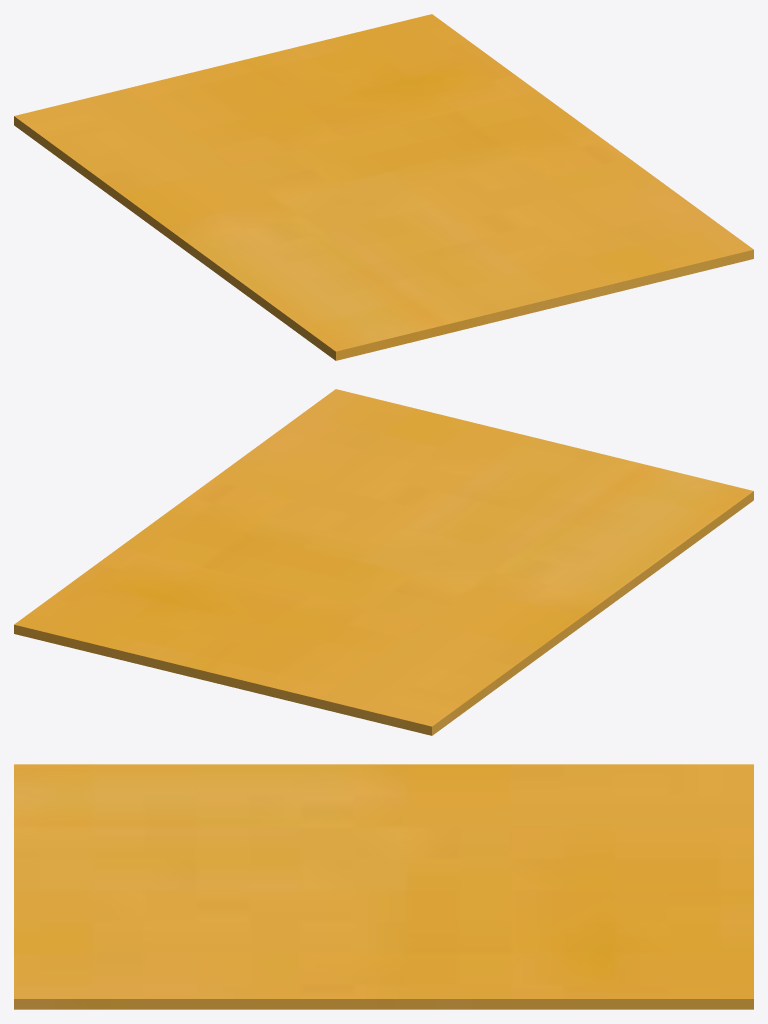
File: gold.fbx
3 renders of one model, top to bottom at view 1: azimuth 30°, elevation 25°; view 2: azimuth 150°, elevation 25°; view 3: azimuth 270°, elevation 25°, orthographic. The views are drawn at different scales.
Parts seen in each view (by area): view 1: gold; view 2: gold; view 3: gold.
Boxes of the visible parts, bbox=[...] form: gold: bbox=[14, 14, 753, 360]; gold: bbox=[14, 389, 753, 735]; gold: bbox=[14, 764, 753, 1009].
Size of the model in its own units: 75 by 1.59 by 100.
Materials: 1 (1 with a texture image).
